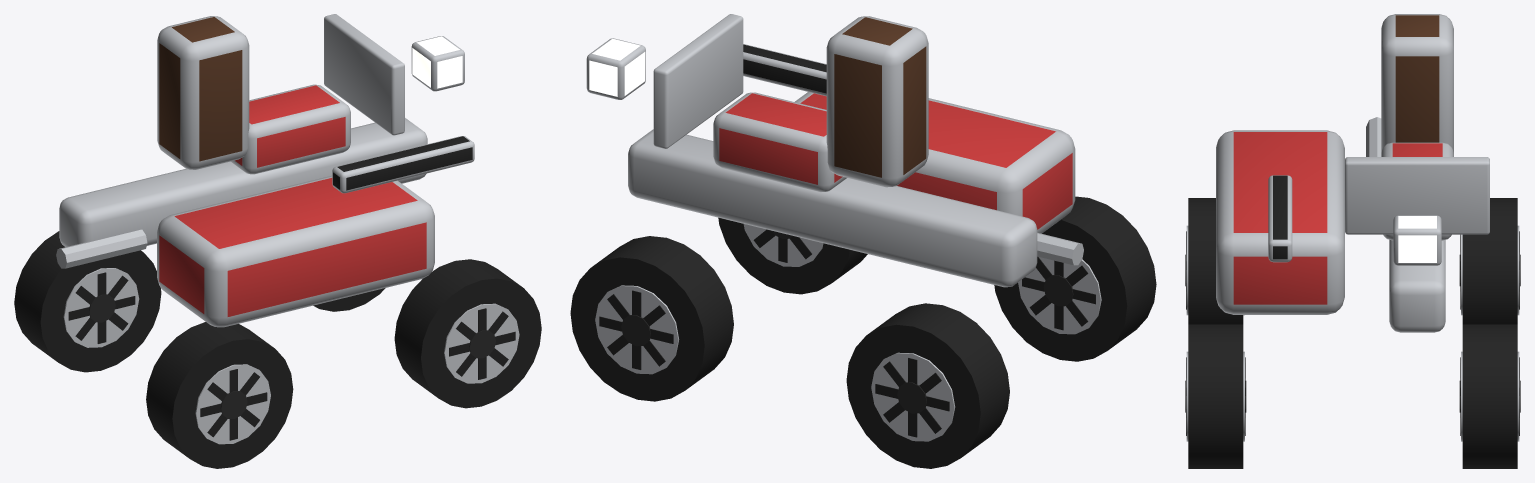
File: thunder-pony.glb
3 renders of one model, left to right at view 1: azimuth 30°, elevation 25°; view 2: azimuth 150°, elevation 25°; view 3: azimuth 270°, elevation 25°, orthographic. The views are drawn at different scales.
Parts seen in each view (by area): view 1: body, wheel_FR, wheel_RR, wheel_RL, wheel_FL; view 2: body, wheel_FL, wheel_RL, wheel_RR, wheel_FR; view 3: body, wheel_FL, wheel_FR, wheel_RL, wheel_RR.
Boxes of the visible parts, x1,y1,x2,y2 form: body: [56, 14, 474, 327]; wheel_FR: [394, 259, 541, 408]; wheel_RR: [146, 322, 293, 468]; wheel_RL: [14, 231, 161, 372]; wheel_FL: [313, 288, 385, 311]; body: [586, 14, 1083, 287]; wheel_FL: [570, 236, 733, 401]; wheel_RL: [846, 303, 1009, 468]; wheel_RR: [994, 196, 1156, 361]; wheel_FR: [718, 217, 867, 294]; body: [1216, 14, 1489, 332]; wheel_FL: [1459, 324, 1520, 468]; wheel_FR: [1185, 324, 1246, 468]; wheel_RL: [1459, 198, 1520, 324]; wheel_RR: [1185, 198, 1244, 324].
Size of the model in its own units: 3.08 by 2.4 by 2.08.
